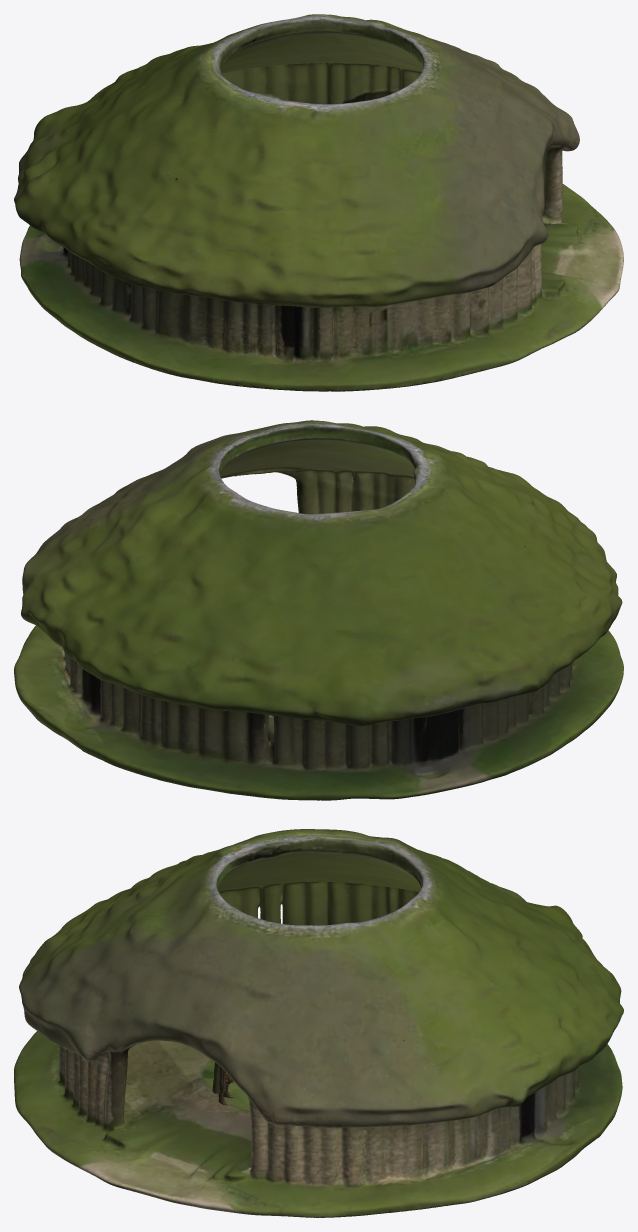
Rendered from 02_banquet.glb.
3 renders of one model, top to bottom at view 1: azimuth 30°, elevation 25°; view 2: azimuth 150°, elevation 25°; view 3: azimuth 270°, elevation 25°, orthographic. The views are drawn at different scales.
Visible parts, largest first — view 1: Mesh_0; view 2: Mesh_0; view 3: Mesh_0, Mesh_0.001.
Boxes of the visible parts, box(x1,y1,x2,y2) form: Mesh_0: box(14, 14, 623, 391); Mesh_0: box(14, 420, 623, 800); Mesh_0: box(14, 829, 623, 1217); Mesh_0.001: box(212, 1062, 233, 1105).
Size of the model in its own units: 15.91 by 6 by 15.82.
Materials: 3 (3 with a texture image).
